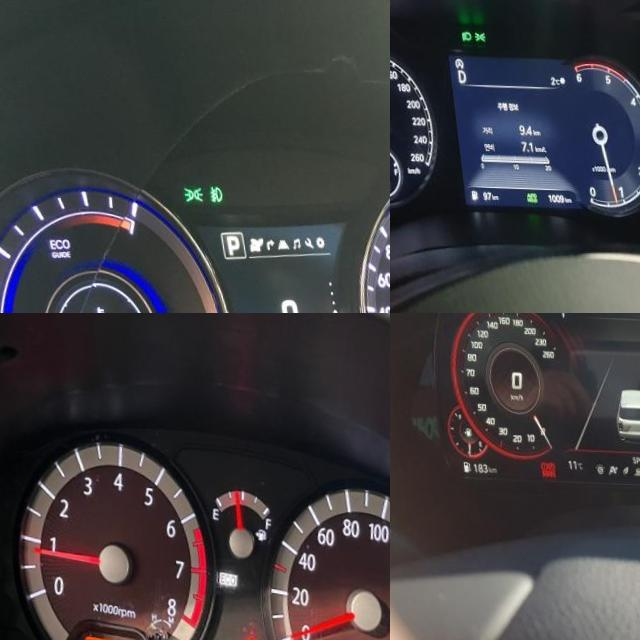FrontFogLight: (203, 183, 217, 200)
Low beam: (454, 27, 466, 39)
SideLamp: (176, 183, 198, 201), (467, 28, 480, 39)
